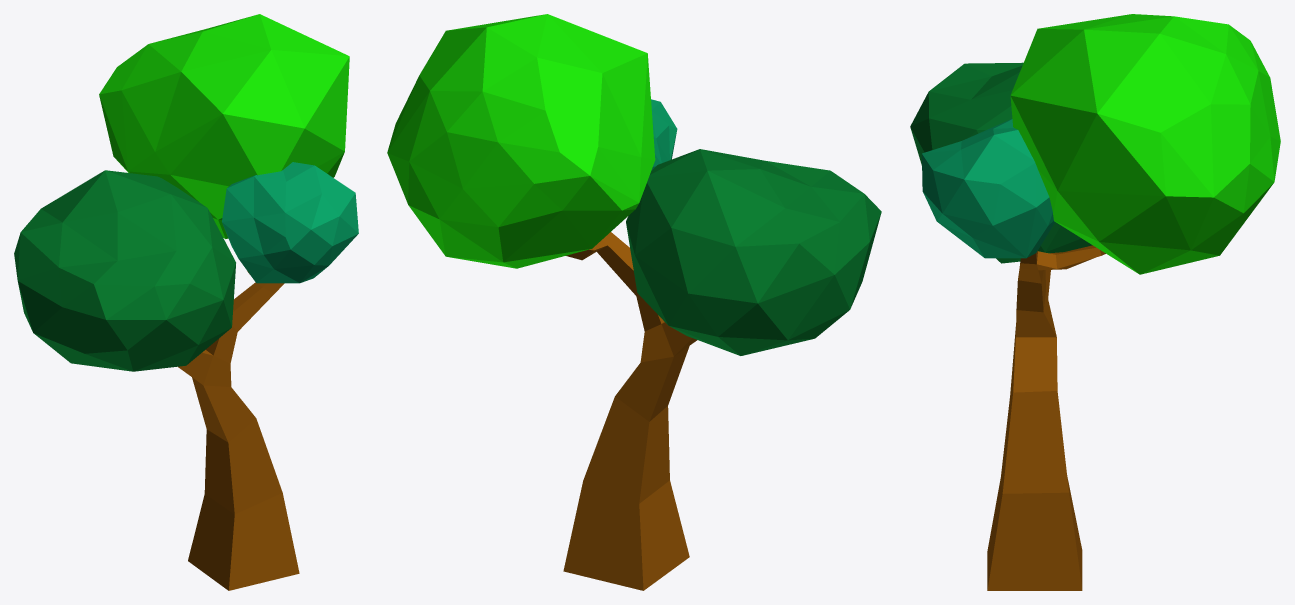
File: tree.02.fbx
The picture shows the model from 3 angles, left to right: view 1: azimuth 30°, elevation 25°; view 2: azimuth 150°, elevation 25°; view 3: azimuth 270°, elevation 25°; orthographic projection. The views are drawn at different scales.
Parts seen in each view (by area): view 1: tree_2_green_2, tree_2_green_3, tree2, tree_2_green_1; view 2: tree_2_green_3, tree_2_green_2, tree2, tree_2_green_1; view 3: tree_2_green_3, tree2, tree_2_green_1, tree_2_green_2.
Part boxes in pixels (x1,y1,x2,y2): tree_2_green_2: (14,170,235,371); tree_2_green_3: (99,14,349,238); tree2: (178,271,299,590); tree_2_green_1: (222,162,358,283); tree_2_green_3: (387,14,655,268); tree_2_green_2: (626,149,881,355); tree2: (563,232,697,590); tree_2_green_1: (651,99,677,170); tree_2_green_3: (1010,14,1280,274); tree2: (987,245,1105,590); tree_2_green_1: (922,119,1054,258); tree_2_green_2: (910,62,1092,263).
Bounding box in the file's own units: 3.49 × 4.69 × 2.73.
